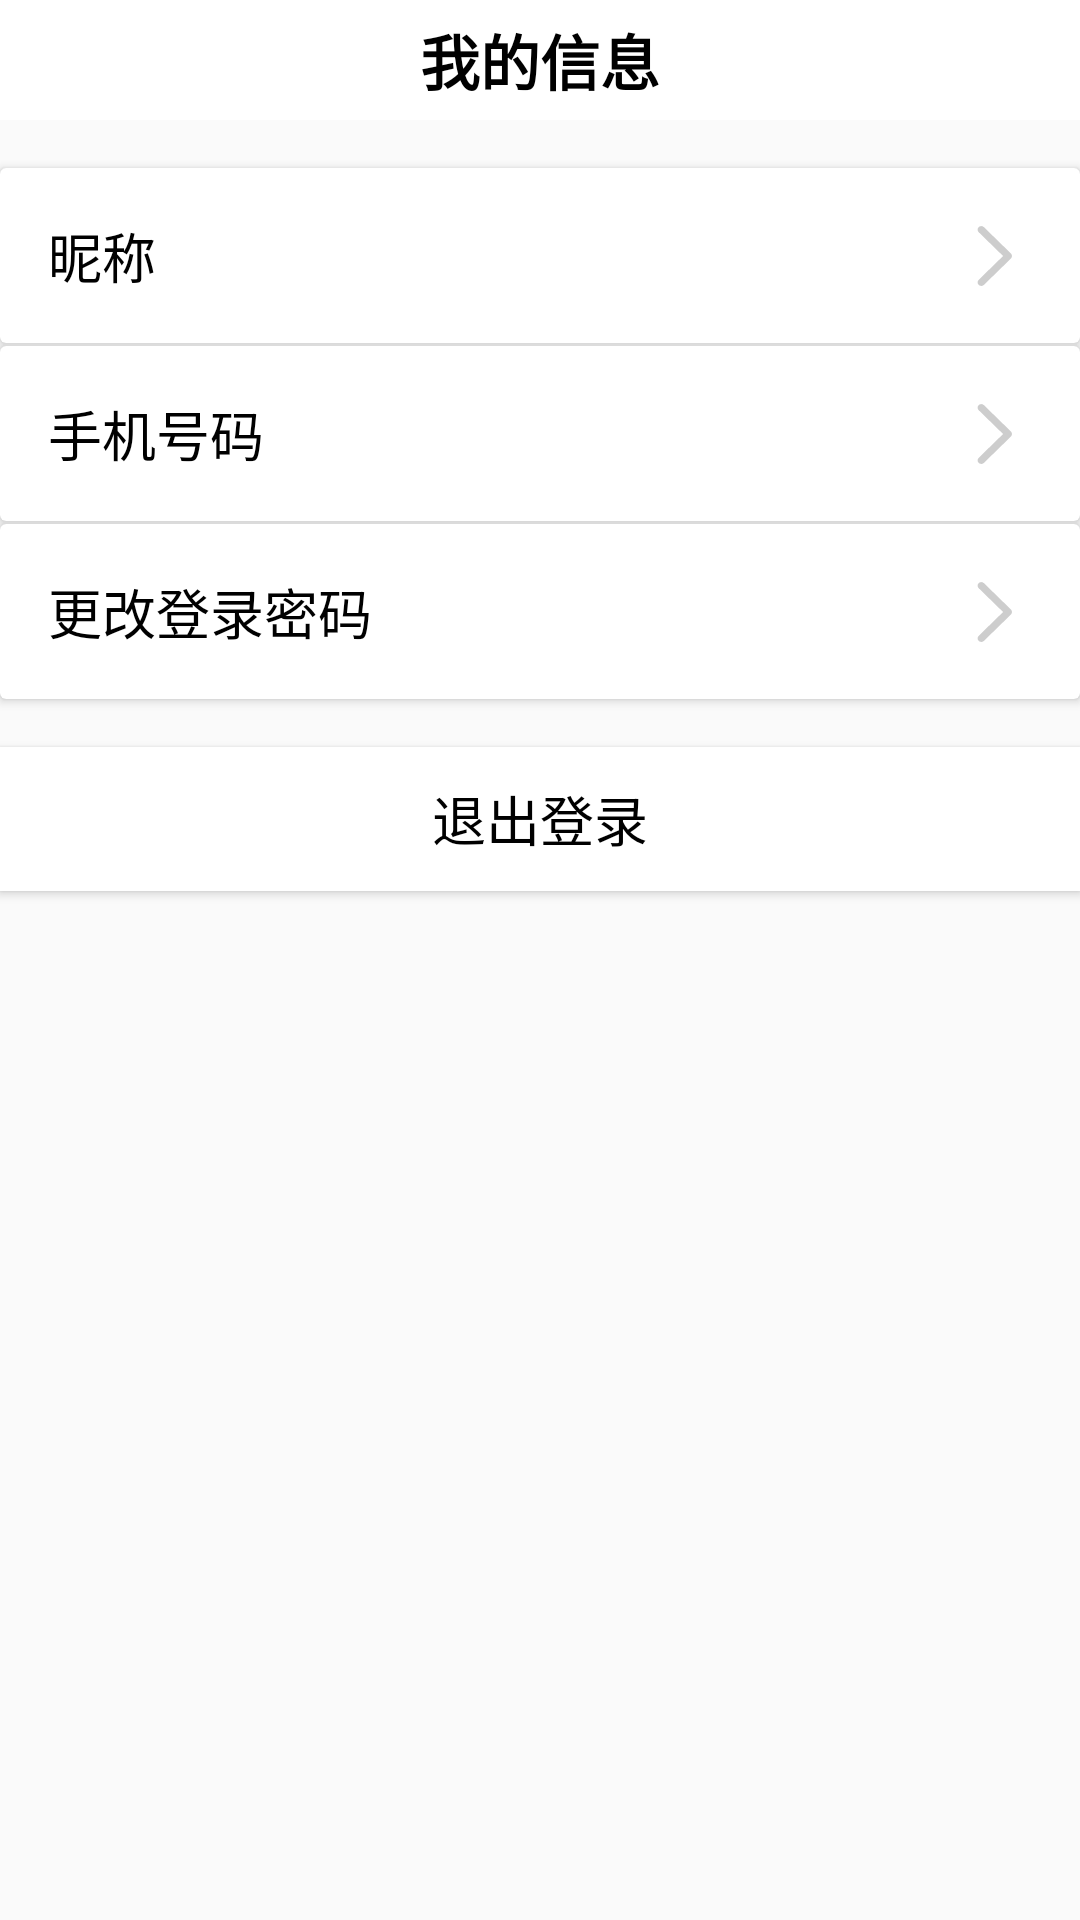

Locate icon controls on the screen. Image size 1080px x 1920px, boxes as region(x1, y1, x2, y2).
into: region(978, 226, 1012, 286), region(978, 404, 1012, 464), region(978, 582, 1012, 642)
